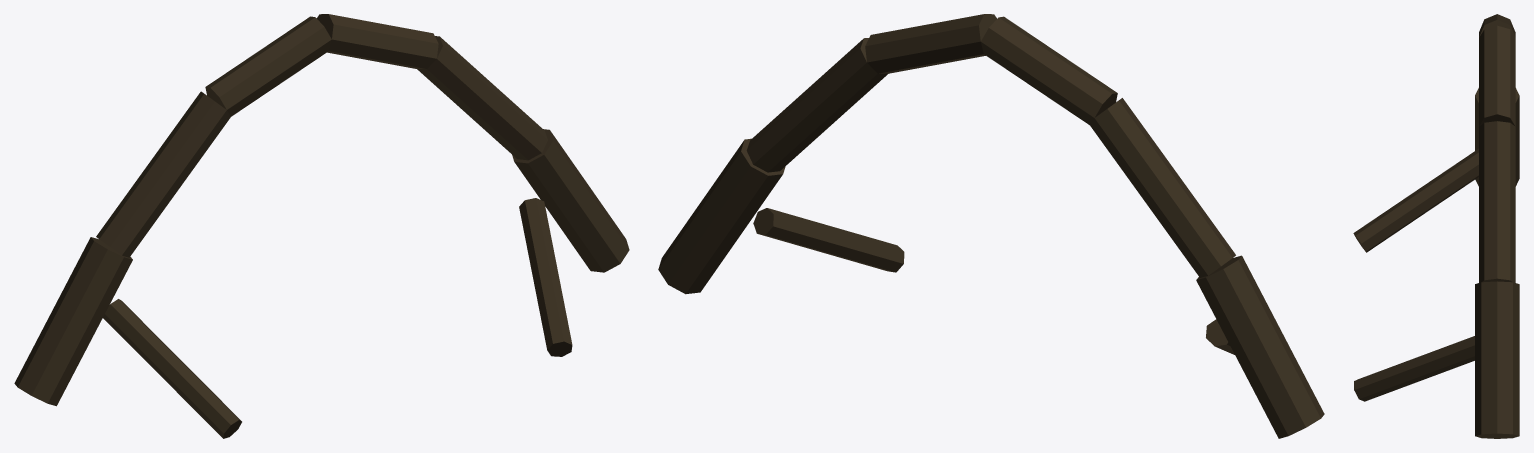
File: root_arch_a.obj
3 renders of one model, left to right at view 1: azimuth 30°, elevation 25°; view 2: azimuth 150°, elevation 25°; view 3: azimuth 270°, elevation 25°, orthographic. The views are drawn at different scales.
Visible parts, largest first — view 1: arch, brace; view 2: arch, brace; view 3: arch, brace.
Part boxes in pixels (x1=…): arch: x1=14, y1=14, x2=629, y2=406; brace: x1=103, y1=198, x2=572, y2=438; arch: x1=658, y1=14, x2=1324, y2=438; brace: x1=753, y1=208, x2=1234, y2=354; arch: x1=1475, y1=14, x2=1519, y2=438; brace: x1=1353, y1=148, x2=1478, y2=401.
Bounding box in the file's own units: 6.37 × 3.3 × 1.64.
